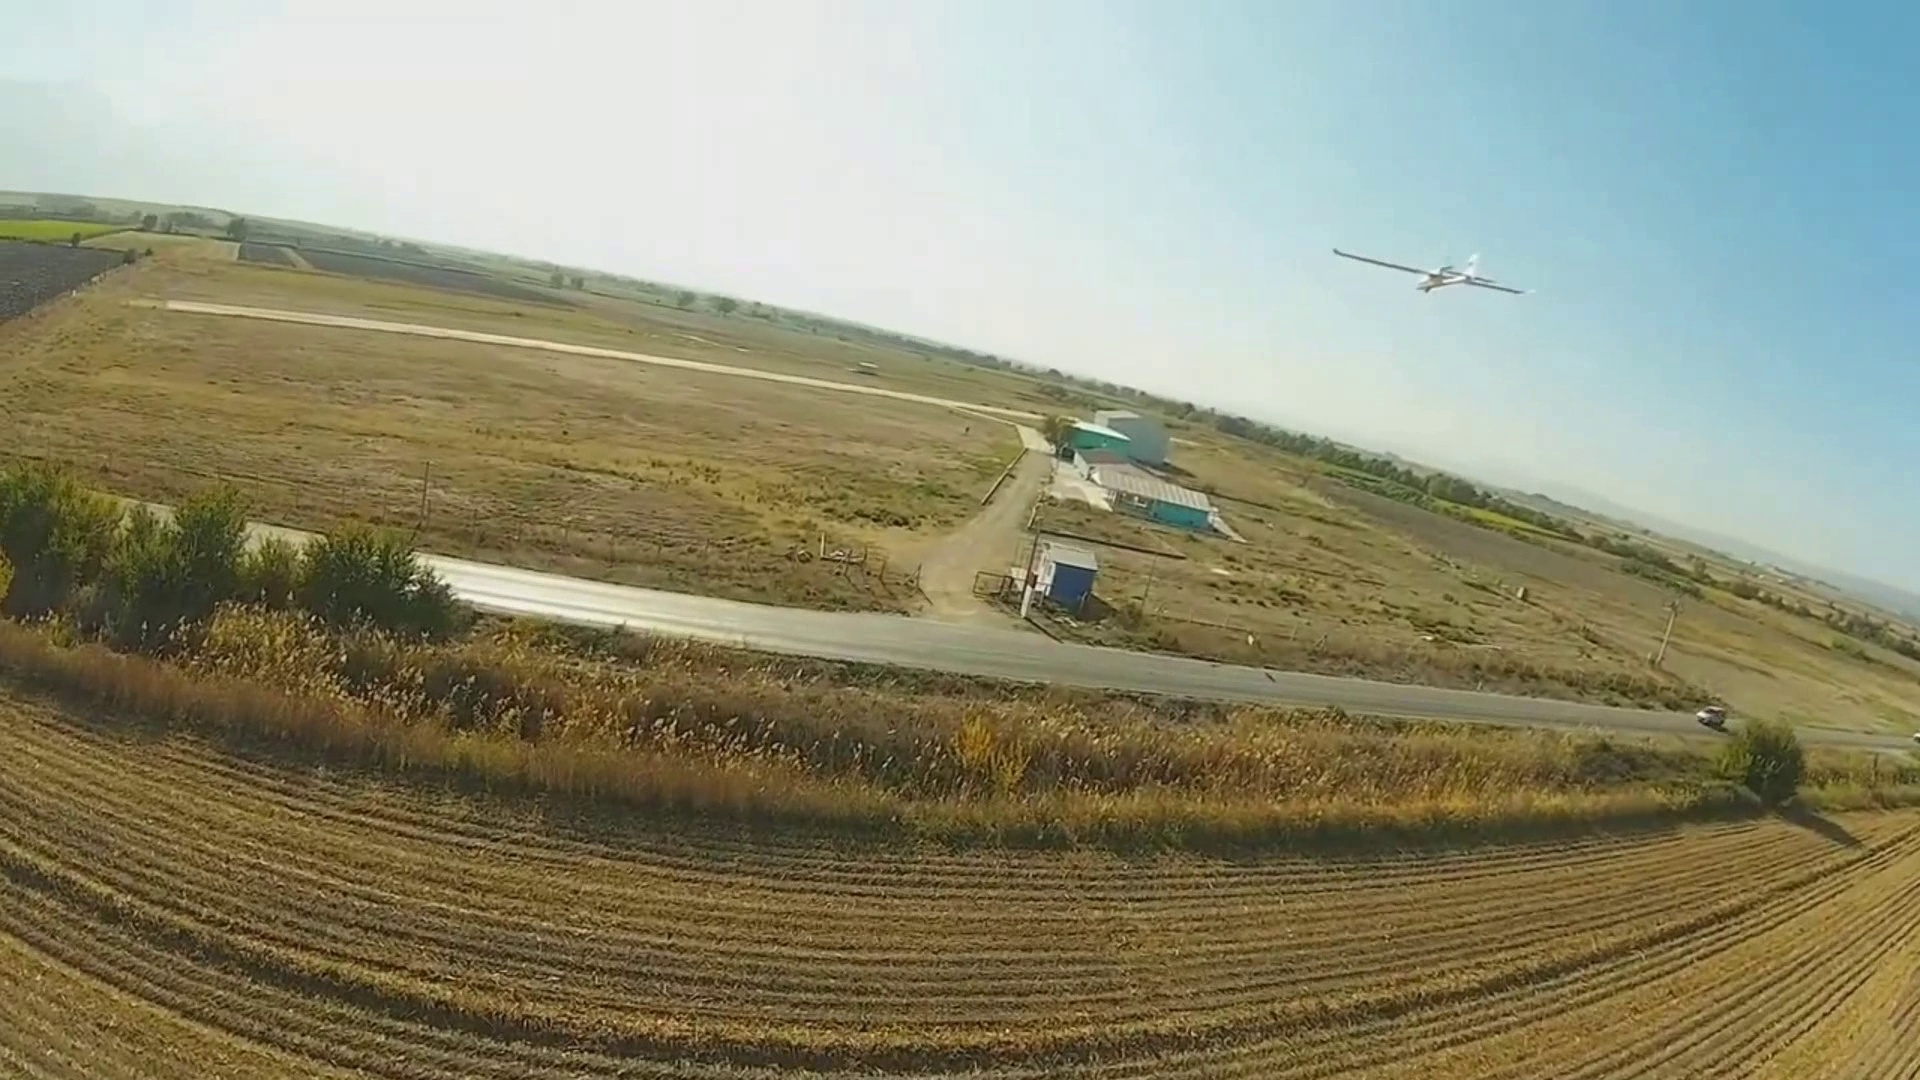airplane: (1329, 244, 1534, 297)
